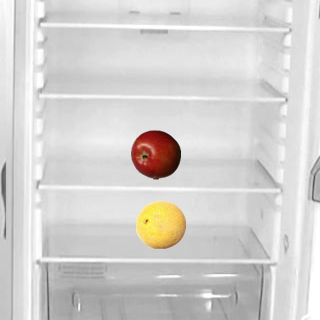Apple Braeburn: (130, 129, 180, 179)
Cantaloupe 1: (135, 199, 185, 249)
